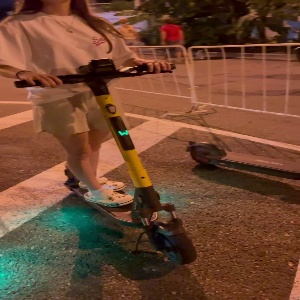human on a scooter: (1, 1, 199, 266)
